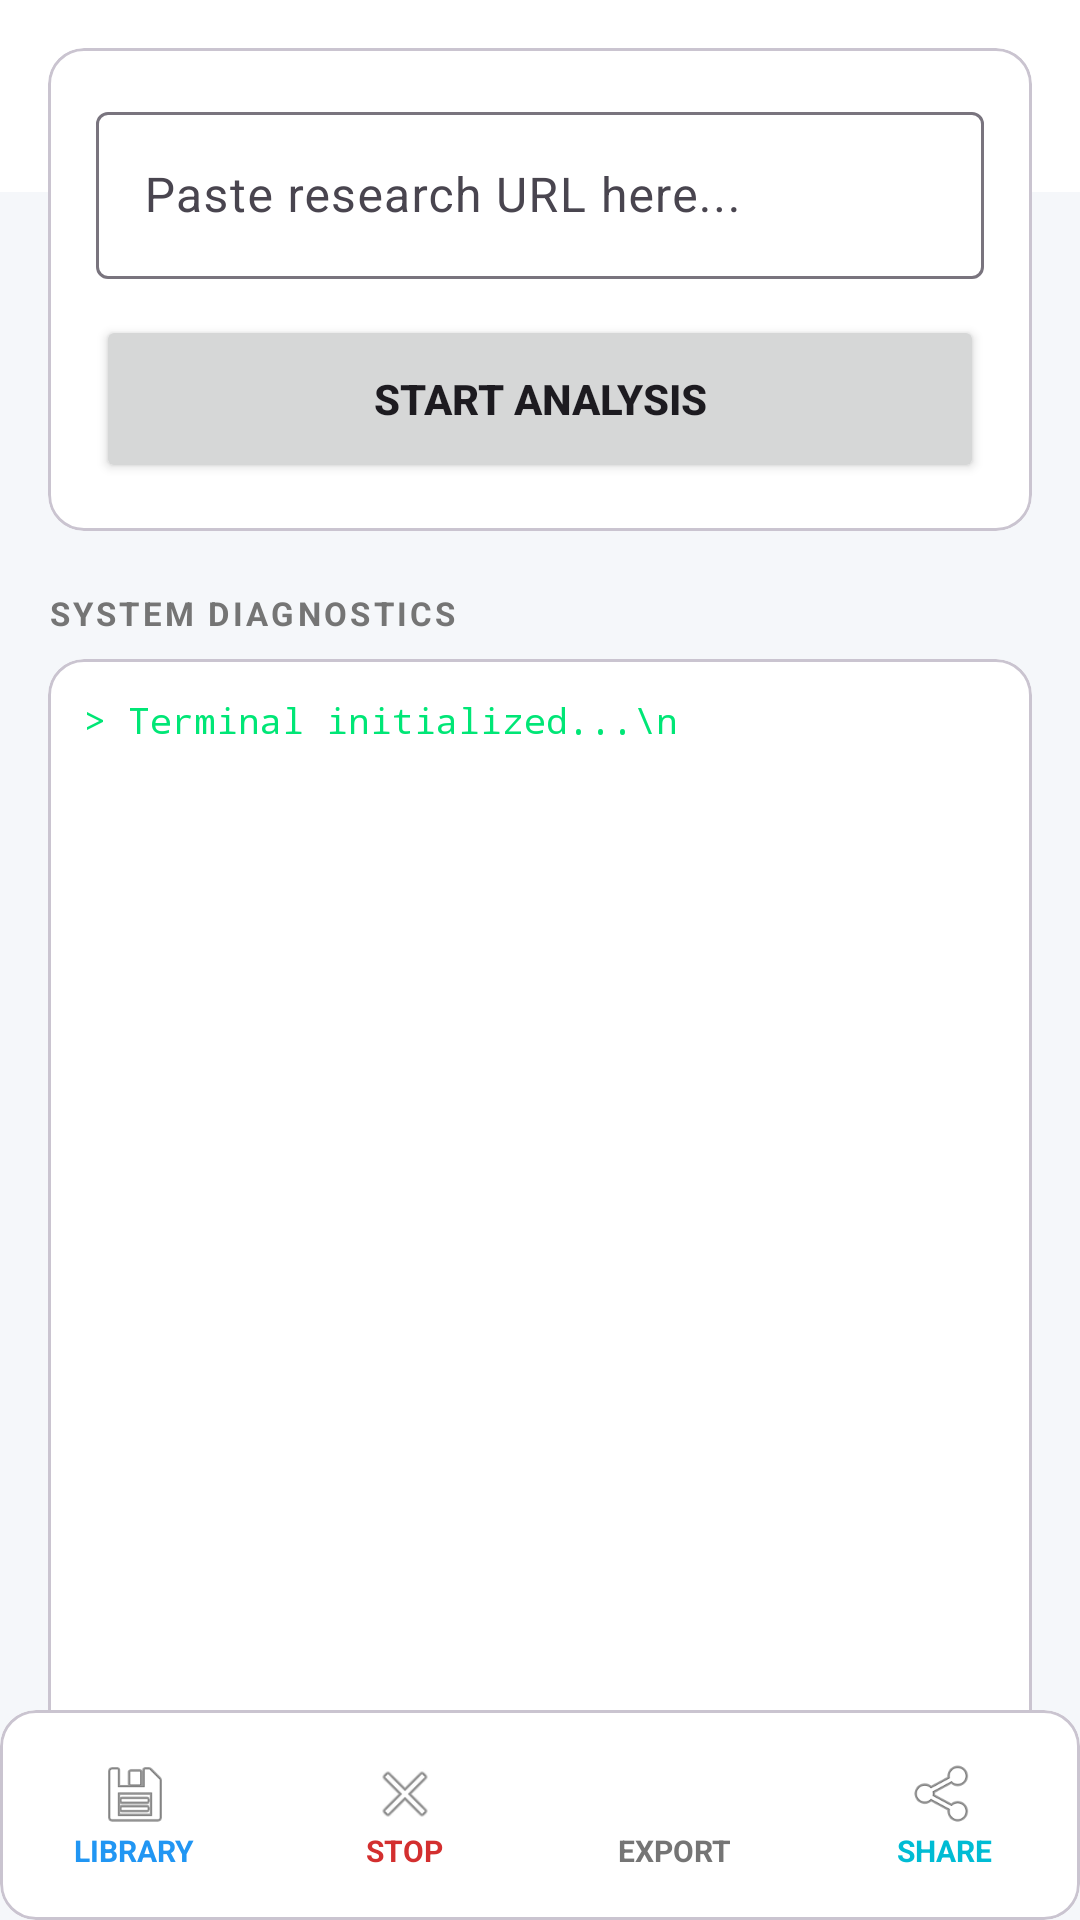

Locate icon controls on the screen. Image size 1080w x 1920h, boxes as [x1=x1, y1=y1, x2=x2, y2=y2].
close clear cancel: [x1=382, y1=1771, x2=428, y2=1817]
save: [x1=108, y1=1767, x2=162, y2=1822]
